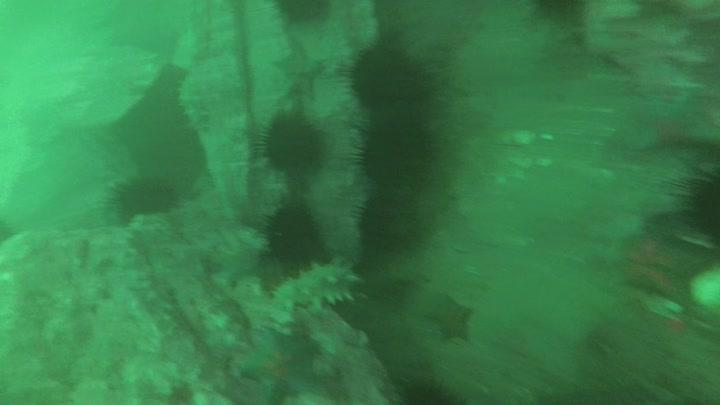urchin: (349, 119, 423, 185), (340, 43, 409, 110), (258, 111, 324, 180), (99, 168, 177, 225), (665, 159, 720, 238), (260, 201, 317, 255), (351, 192, 401, 246)
